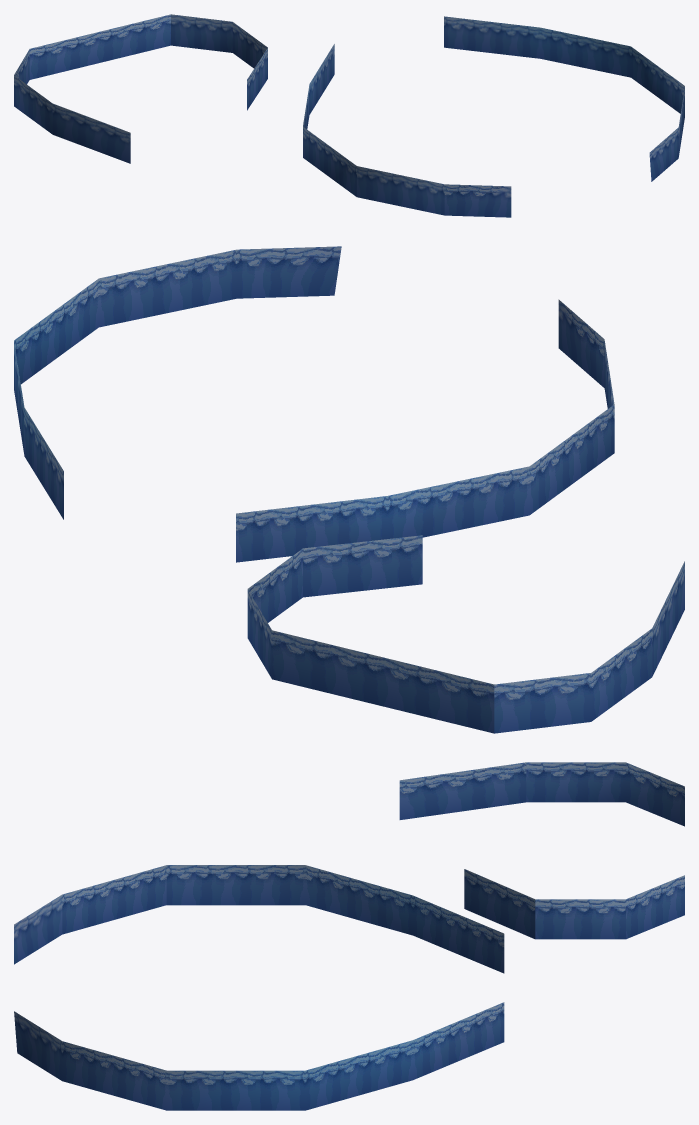
The model's file is object_13_lev2.glb.
The picture shows the model from 3 angles, top to bottom: view 1: azimuth 30°, elevation 25°; view 2: azimuth 150°, elevation 25°; view 3: azimuth 270°, elevation 25°; orthographic projection. The views are drawn at different scales.
Visible parts, largest first — view 1: object_13_lev2; view 2: object_13_lev2; view 3: object_13_lev2.
Part boxes in pixels (bbox=[...]): object_13_lev2: bbox=[14, 14, 684, 217]; object_13_lev2: bbox=[14, 246, 684, 733]; object_13_lev2: bbox=[14, 762, 684, 1110].
Size of the model in its own units: 38.5 by 2.34 by 35.42.
Materials: 1 (1 with a texture image).
